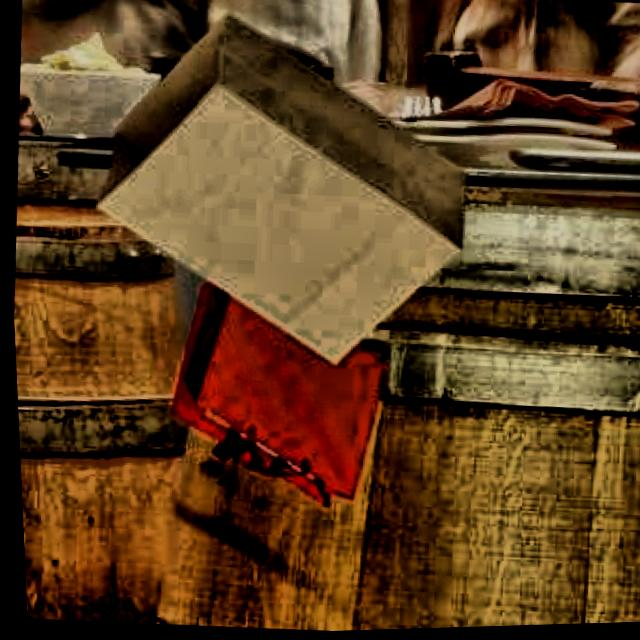Paper-bag: (69, 0, 501, 390), (139, 257, 406, 515)
